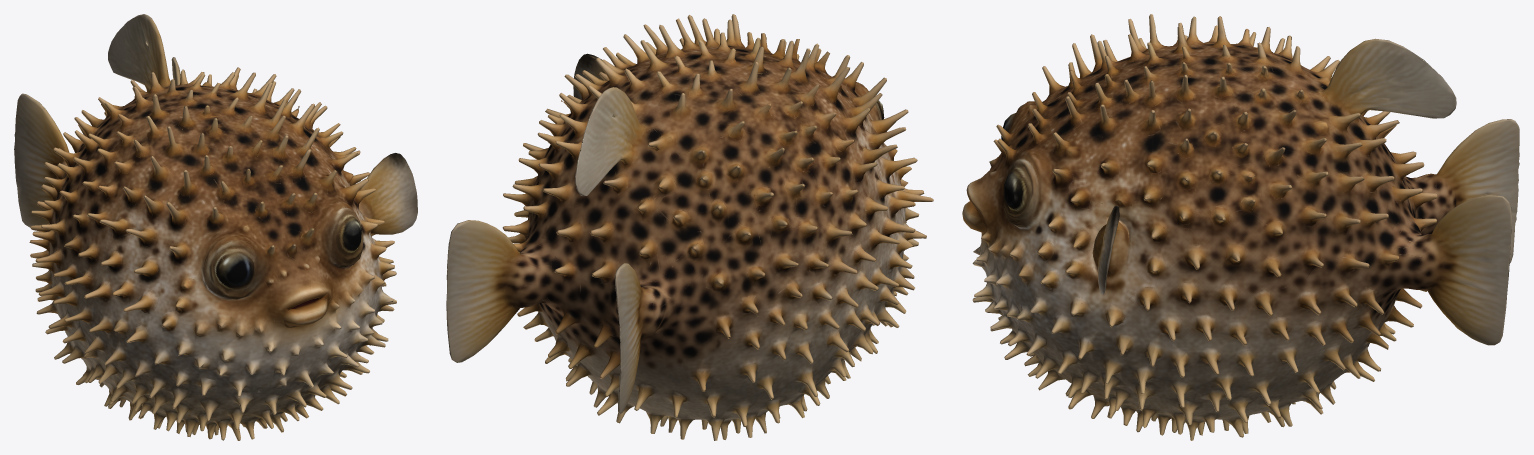
File: 05_pufferfish_inflated.glb
3 views of the same model, side by side, from view 1: azimuth 30°, elevation 25°; view 2: azimuth 150°, elevation 25°; view 3: azimuth 270°, elevation 25° (orthographic). The views are drawn at different scales.
Visible parts, largest first — view 1: world; view 2: world; view 3: world.
Boxes of the visible parts, <box> form: world: <box>14,14,417,440</box>; world: <box>446,14,933,440</box>; world: <box>962,14,1519,440</box>.
Bounding box in the file's own units: 0.7619 × 0.7752 × 1.
Materials: 1 (1 with a texture image).
